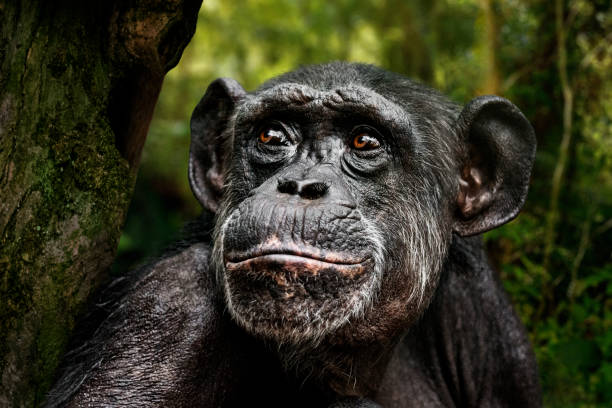chimpanzee: (158, 47, 561, 365)
